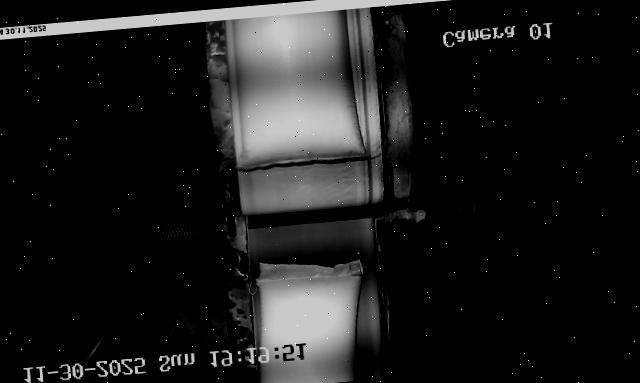bag: (228, 8, 366, 168), (252, 254, 371, 383)
